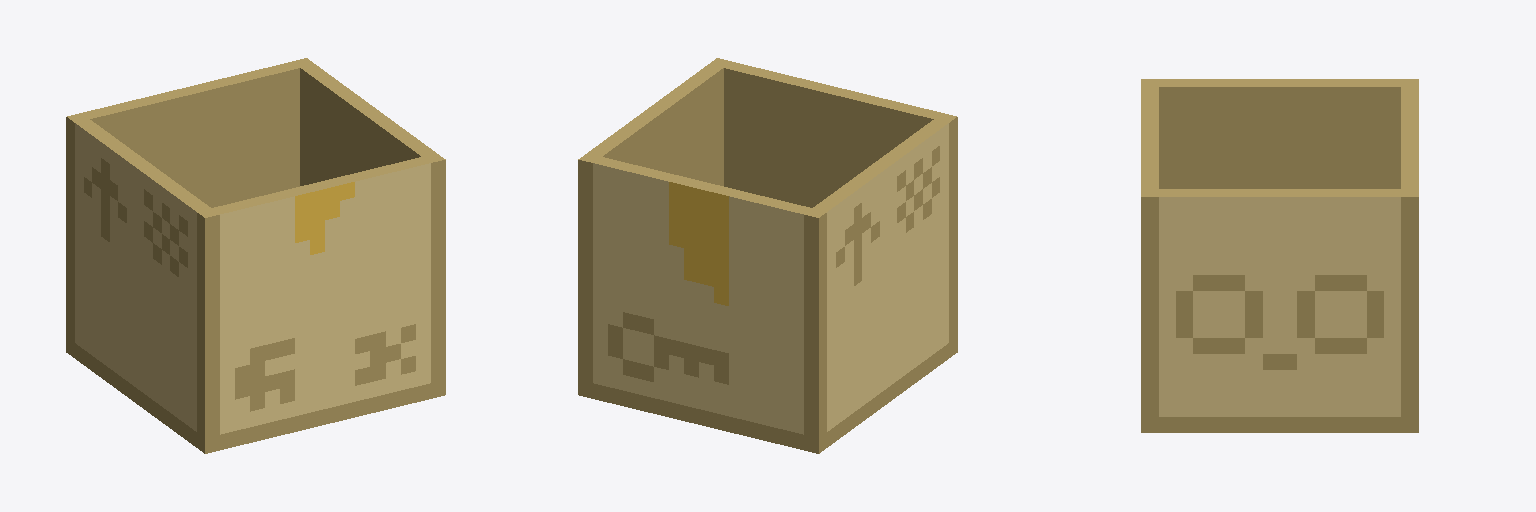
3 renders of one model, left to right at view 1: azimuth 30°, elevation 25°; view 2: azimuth 150°, elevation 25°; view 3: azimuth 270°, elevation 25°, orthographic.
Visible parts, largest first — view 1: Base; view 2: Base; view 3: Base.
Boxes of the visible parts, <box> form: Base: <box>66,58,445,453</box>; Base: <box>578,58,957,453</box>; Base: <box>1141,79,1418,432</box>.
Size of the model in its own units: 1 by 0.9375 by 1.
1 materials, 1 textured.